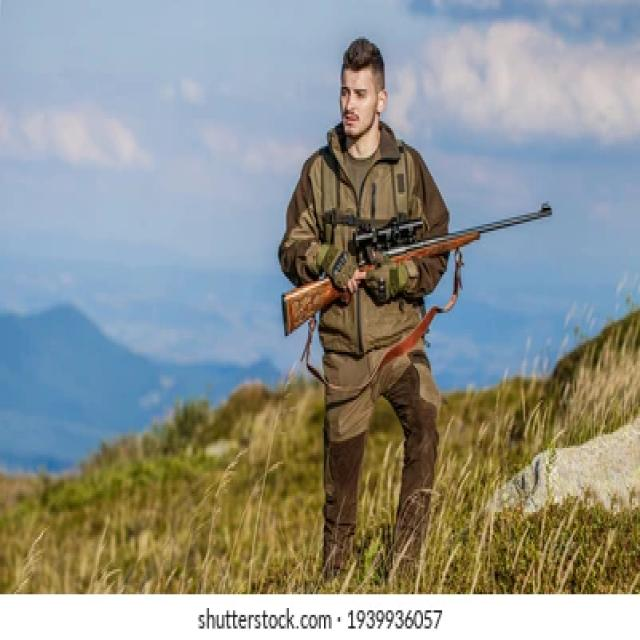soldier: (278, 36, 553, 595)
